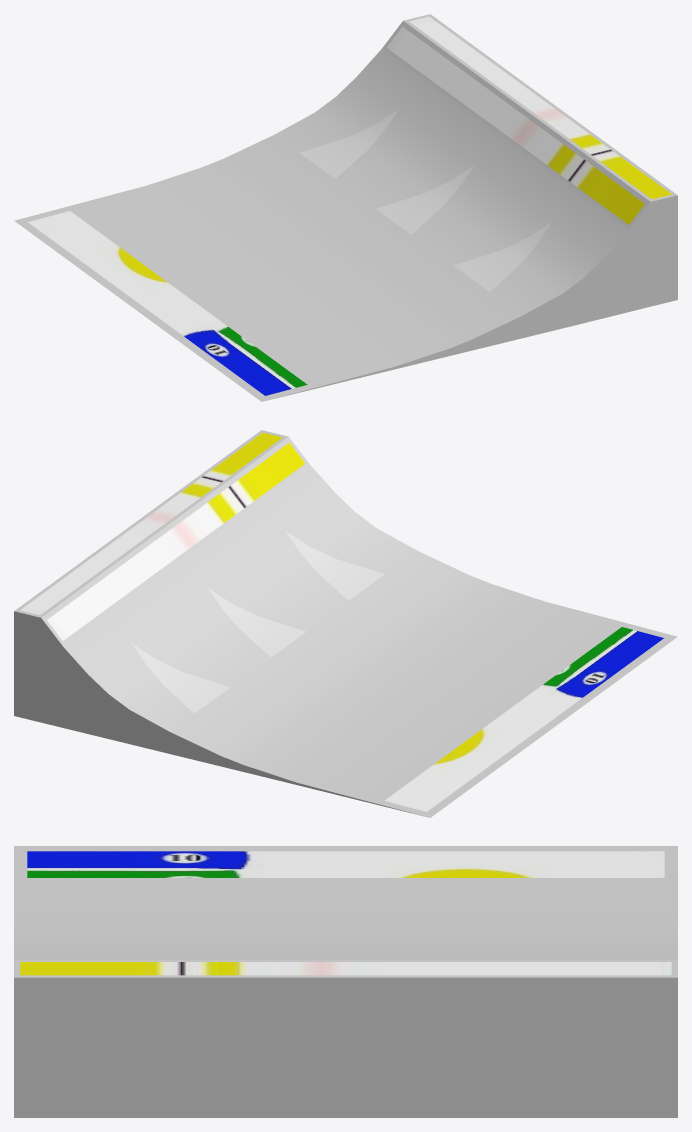
File: Springboard_01.fbx
3 views of the same model, one above another, from view 1: azimuth 30°, elevation 25°; view 2: azimuth 150°, elevation 25°; view 3: azimuth 270°, elevation 25° (orthographic). The views are drawn at different scales.
Visible parts, largest first — view 1: Cube.017; view 2: Cube.017; view 3: Cube.017.
Boxes of the visible parts, x1=… form: Cube.017: x1=14, y1=14, x2=677, y2=401; Cube.017: x1=14, y1=430, x2=677, y2=817; Cube.017: x1=14, y1=846, x2=677, y2=1117.
Bounding box in the file's own units: 97.09 × 23.42 × 100.
